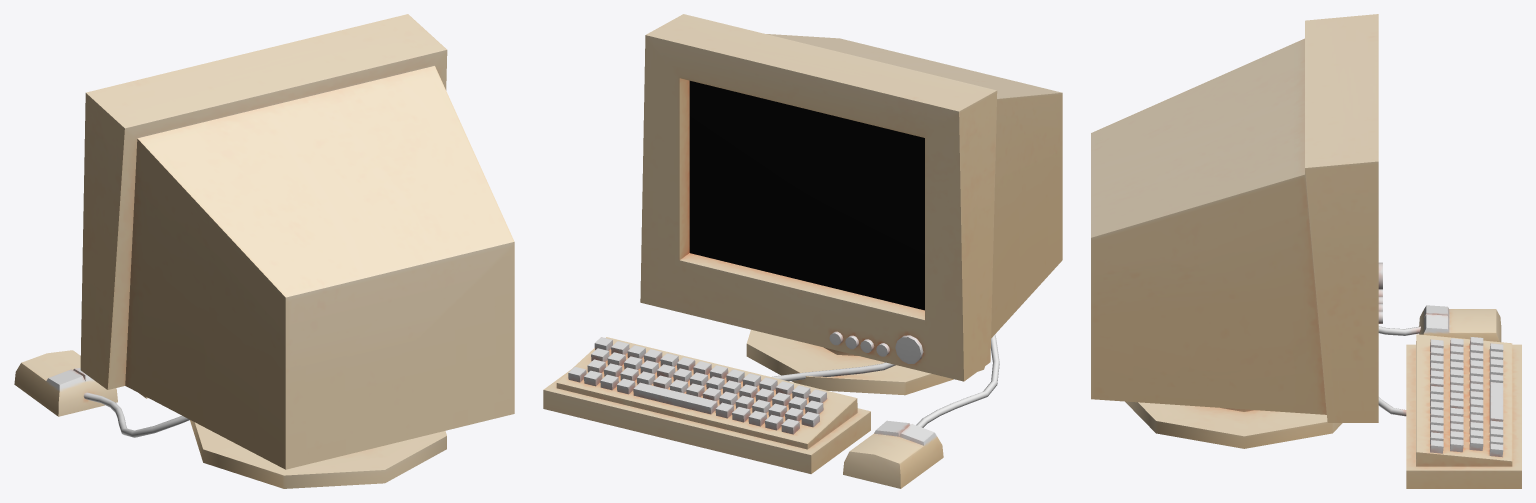
3 renders of one model, left to right at view 1: azimuth 30°, elevation 25°; view 2: azimuth 150°, elevation 25°; view 3: azimuth 270°, elevation 25°, orthographic. The views are drawn at different scales.
Parts seen in each view (by area): view 1: PC_low; view 2: PC_low; view 3: PC_low.
Boxes of the visible parts, x1,y1,x2,y2 form: PC_low: (14,14,514,488); PC_low: (543,14,1062,488); PC_low: (1091,14,1521,488).
Bounding box in the file's own units: 1.12 × 1.01 × 1.25.
